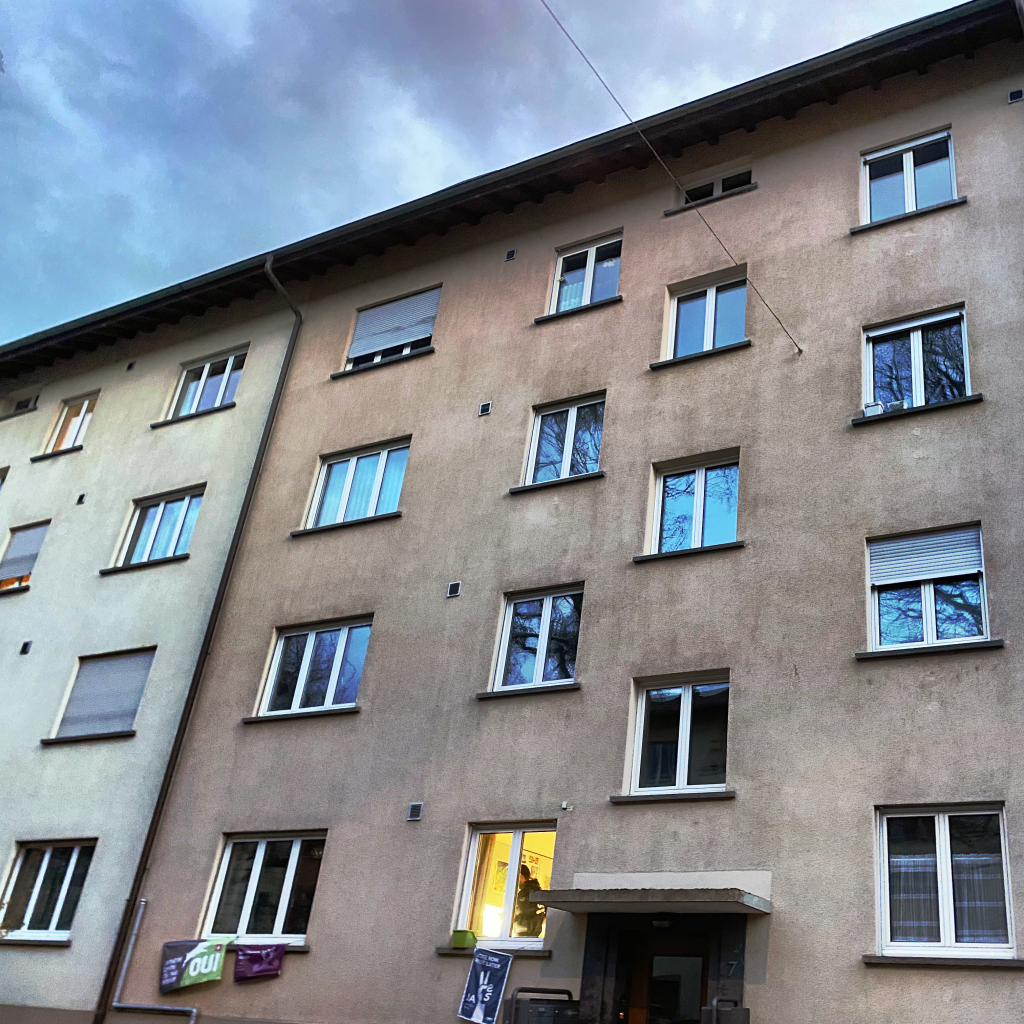glass panel: (949, 814, 1008, 943), (886, 816, 938, 941), (467, 833, 512, 937), (512, 831, 555, 937), (245, 839, 292, 933), (638, 687, 681, 787), (212, 841, 258, 934), (687, 684, 728, 784), (283, 838, 324, 934), (27, 846, 73, 930), (922, 319, 967, 404), (647, 956, 702, 1023), (0, 848, 44, 930), (502, 599, 542, 685), (543, 593, 582, 681), (56, 846, 93, 930), (300, 629, 340, 706), (872, 332, 913, 407), (332, 624, 370, 704), (934, 577, 983, 639), (268, 634, 307, 711), (658, 471, 695, 551), (701, 464, 737, 545), (878, 584, 924, 646), (913, 139, 952, 208), (531, 410, 568, 482), (569, 402, 604, 476), (869, 154, 906, 222), (344, 452, 380, 520), (314, 460, 349, 524), (375, 448, 408, 514), (149, 498, 184, 559), (713, 282, 745, 346), (674, 292, 706, 356), (556, 252, 588, 311), (591, 240, 621, 301), (128, 505, 158, 563), (52, 400, 86, 450), (174, 495, 202, 554), (196, 359, 225, 411), (172, 367, 202, 417), (221, 353, 245, 403), (73, 397, 96, 442), (721, 170, 751, 193), (684, 182, 712, 202)
